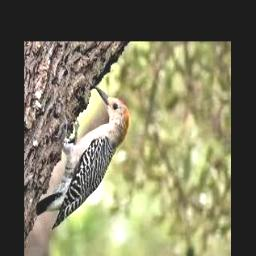Woodpecker: (36, 85, 129, 230)
